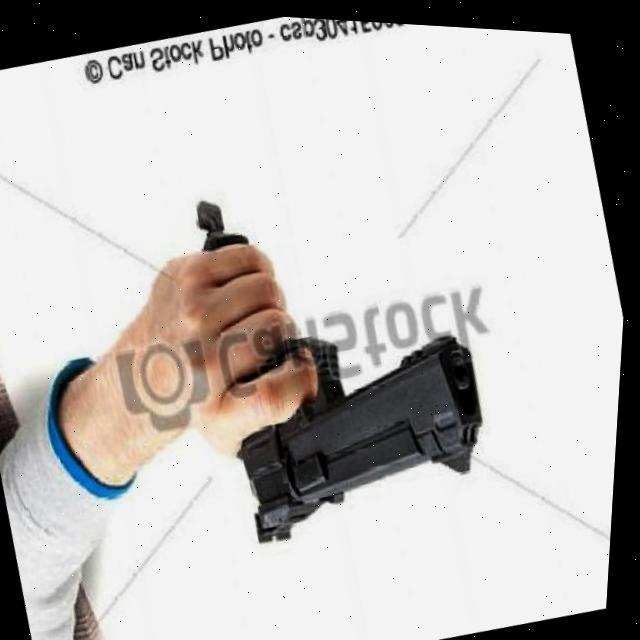gun: (175, 222, 540, 588)
